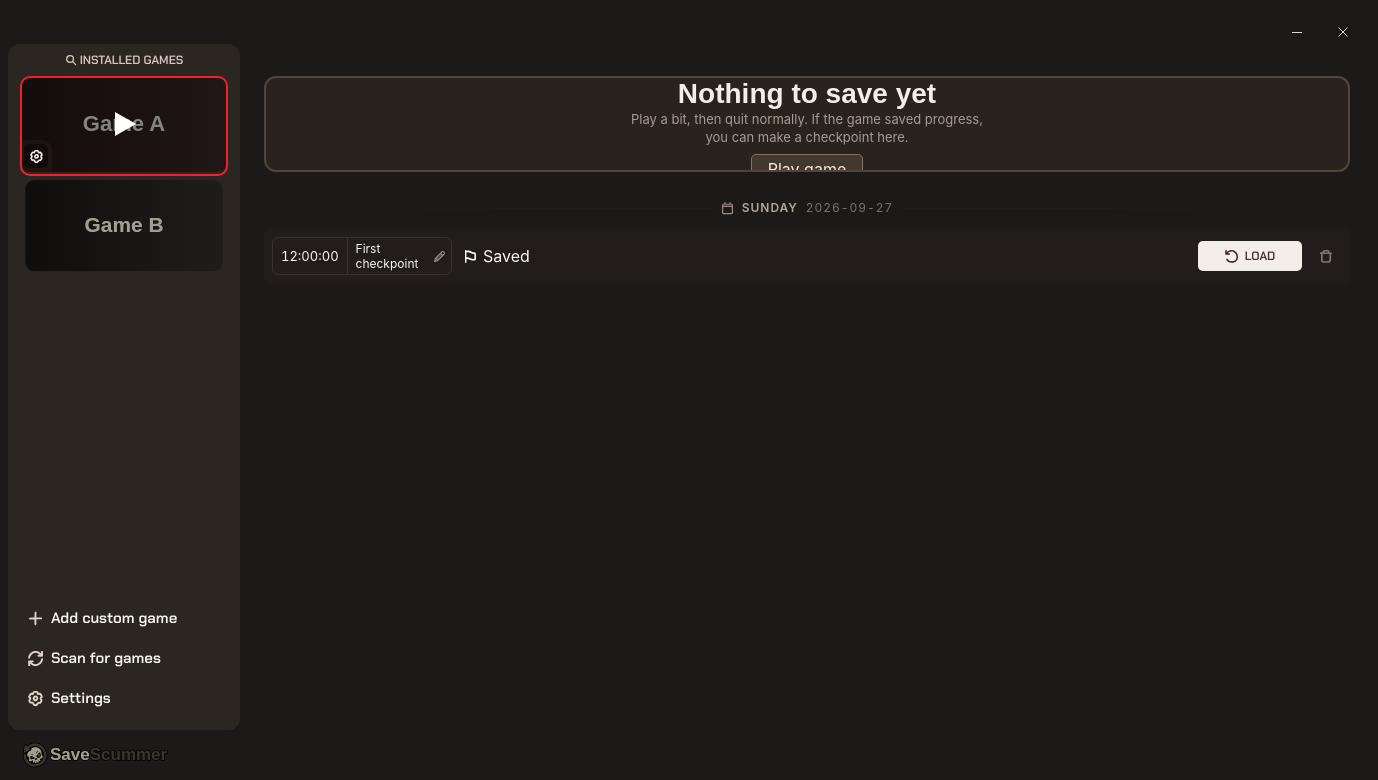
it: play-first guidance launches the game through the shared play action
expect the message "Nothing to save yet" shows "If the game saved progress,": met, box left=631, top=111, right=983, bottom=145
Click the button "Play game".
click(807, 170)  # box left=751, top=154, right=863, bottom=184
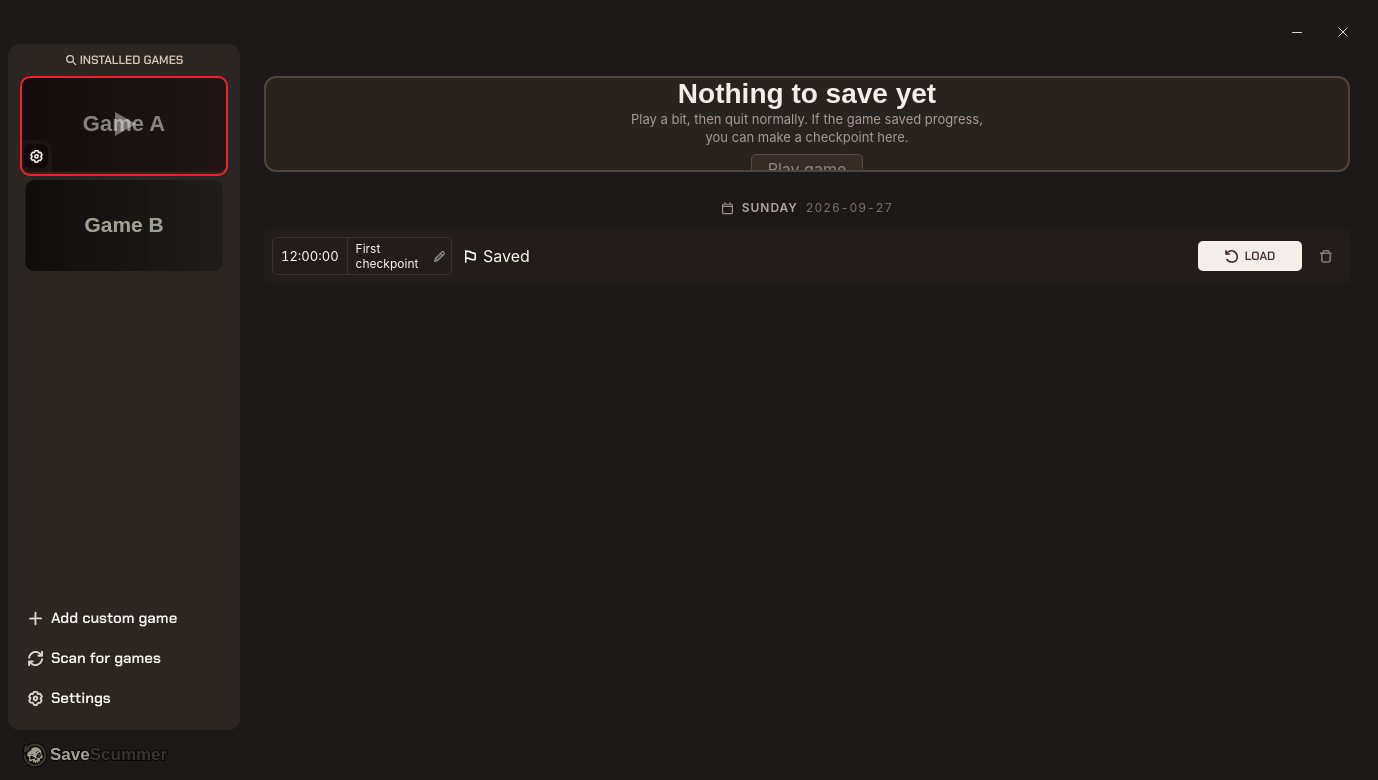
expect the button named "Play Game A" is disabled: met, box left=20, top=76, right=228, bottom=172
